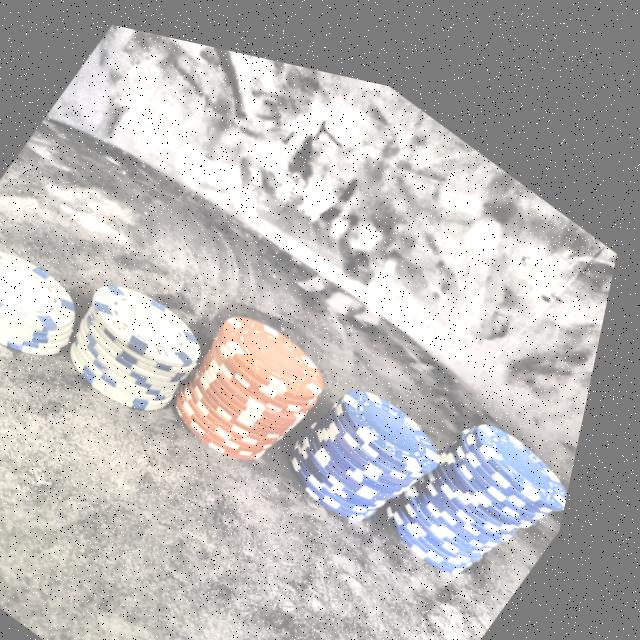Chip: (380, 355, 595, 599), (160, 256, 370, 488), (287, 336, 483, 539), (50, 239, 245, 439), (0, 208, 125, 389)
